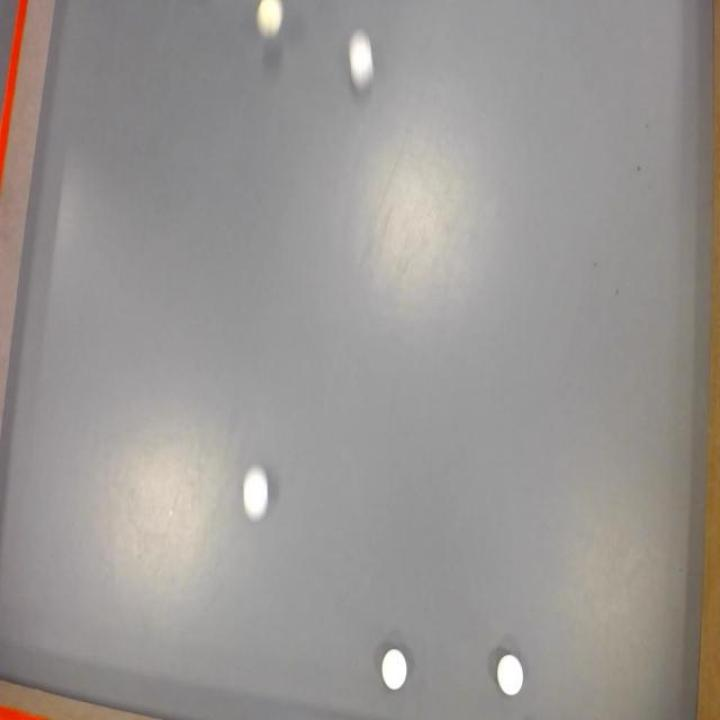white: (348, 28, 374, 90), (243, 466, 270, 522), (256, 0, 284, 42), (382, 649, 409, 690), (498, 656, 524, 697)
